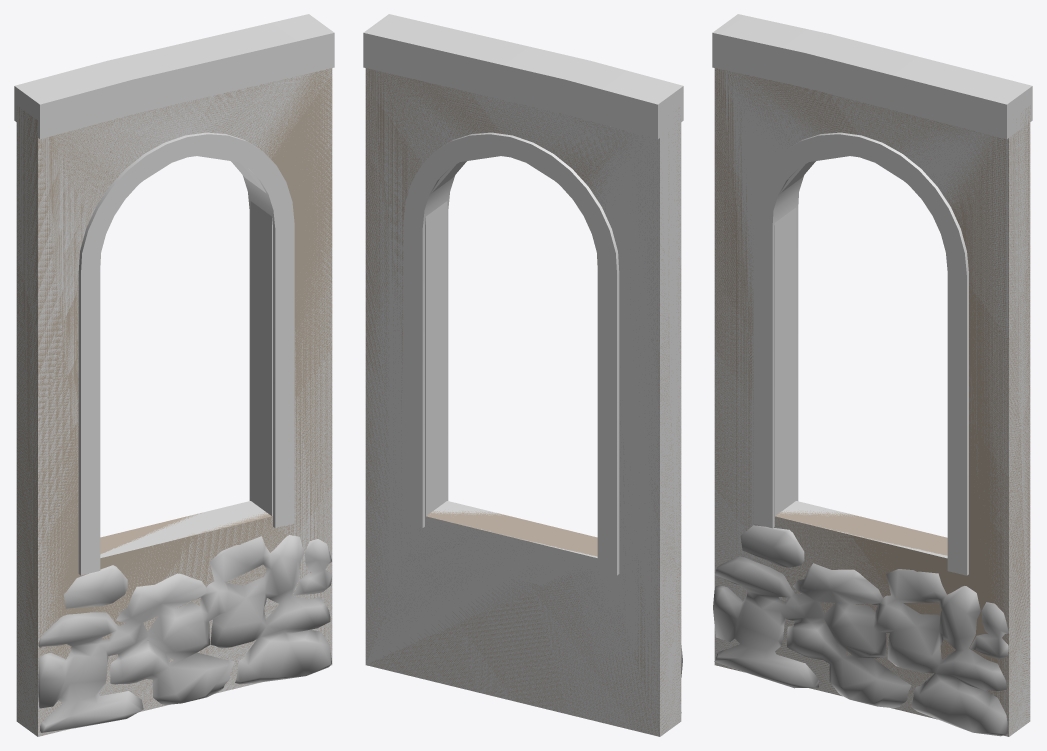
The model's file is Foundation_Wall_1_Door_2.fbx.
The picture shows the model from 3 angles, left to right: view 1: azimuth 30°, elevation 25°; view 2: azimuth 150°, elevation 25°; view 3: azimuth 330°, elevation 25°; orthographic projection.
Visible parts, largest first — view 1: Foundation_Wall_1_Door_2_LOD0, Foundation_Wall_1_Door_2_COL0; view 2: Foundation_Wall_1_Door_2_COL0, Foundation_Wall_1_Door_2_LOD0; view 3: Foundation_Wall_1_Door_2_LOD0, Foundation_Wall_1_Door_2_COL0.
Part boxes in pixels (x1=…): Foundation_Wall_1_Door_2_LOD0: x1=14, y1=14, x2=334, y2=735; Foundation_Wall_1_Door_2_COL0: x1=16, y1=68, x2=332, y2=736; Foundation_Wall_1_Door_2_COL0: x1=365, y1=68, x2=681, y2=736; Foundation_Wall_1_Door_2_LOD0: x1=363, y1=14, x2=683, y2=736; Foundation_Wall_1_Door_2_LOD0: x1=712, y1=14, x2=1032, y2=736; Foundation_Wall_1_Door_2_COL0: x1=714, y1=68, x2=1030, y2=736.
Size of what is drawn, in the model's own units: 200 by 413 by 33.81.
